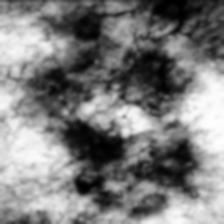Potentially Malignant Skin Tumors: (116, 58, 172, 108)
